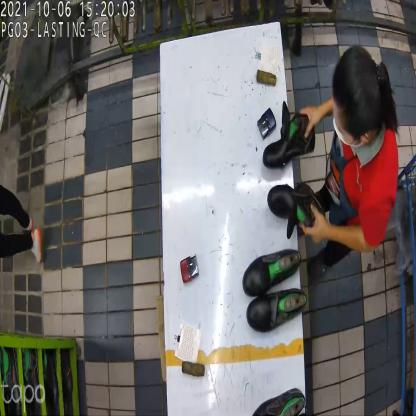shoes: (265, 115, 327, 235), (243, 249, 305, 337)
stamp: (258, 106, 276, 140), (180, 253, 199, 285)
